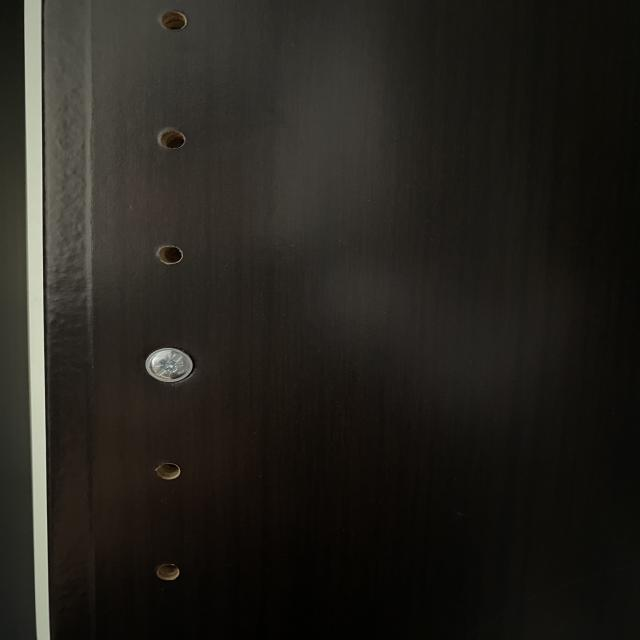PhillipsScrewHead: (144, 347, 194, 384)
